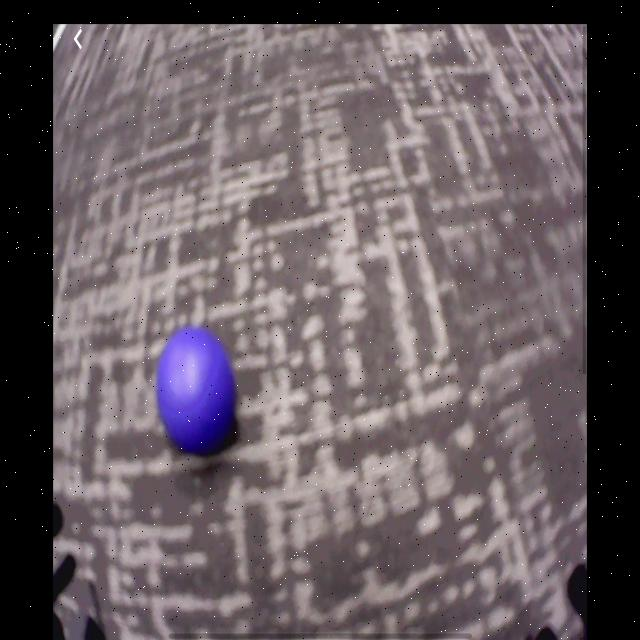ball: (158, 329, 237, 455)
